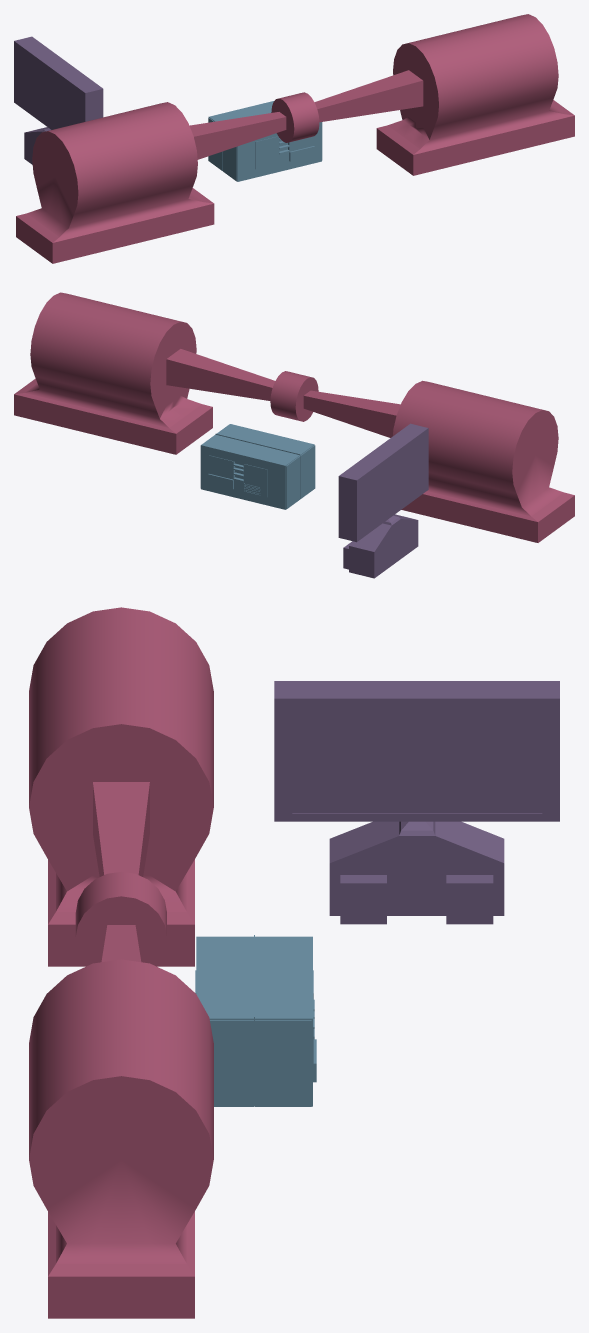
The model's file is Generator Room Furniture.fbx.
3 views of the same model, one above another, from view 1: azimuth 30°, elevation 25°; view 2: azimuth 150°, elevation 25°; view 3: azimuth 270°, elevation 25° (orthographic). The views are drawn at different scales.
Visible parts, largest first — view 1: Broken_Open_Generator, Generator_Computer, Generator_Storage; view 2: Broken_Open_Generator, Generator_Computer, Generator_Storage; view 3: Broken_Open_Generator, Generator_Computer, Generator_Storage.
Boxes of the visible parts, left/top/right/bottom form: Broken_Open_Generator: left=16, top=14, right=574, bottom=263; Generator_Computer: left=14, top=36, right=103, bottom=164; Generator_Storage: left=208, top=100, right=322, bottom=181; Broken_Open_Generator: left=14, top=292, right=574, bottom=542; Generator_Computer: left=338, top=423, right=428, bottom=578; Generator_Storage: left=200, top=424, right=315, bottom=509; Broken_Open_Generator: left=29, top=607, right=213, bottom=1318; Generator_Computer: left=274, top=681, right=559, bottom=924; Generator_Storage: left=195, top=935, right=316, bottom=1106.
Bounding box in the file's own units: 62.16 × 12.62 × 27.36.
